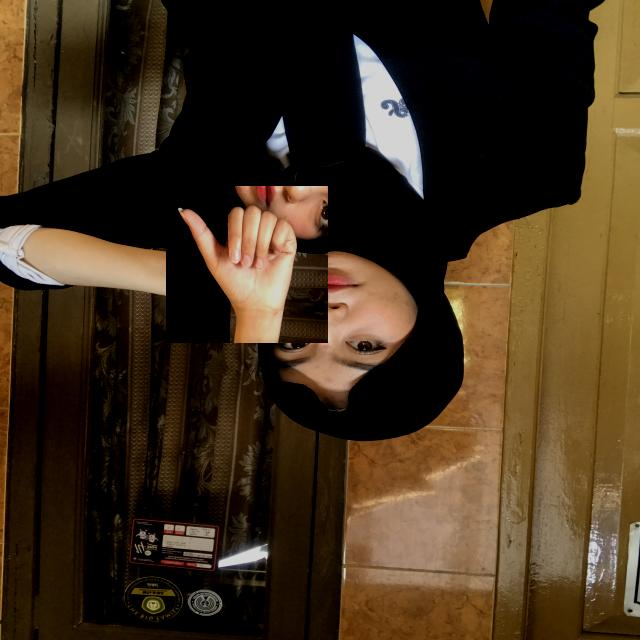sedih: (167, 185, 327, 345)
